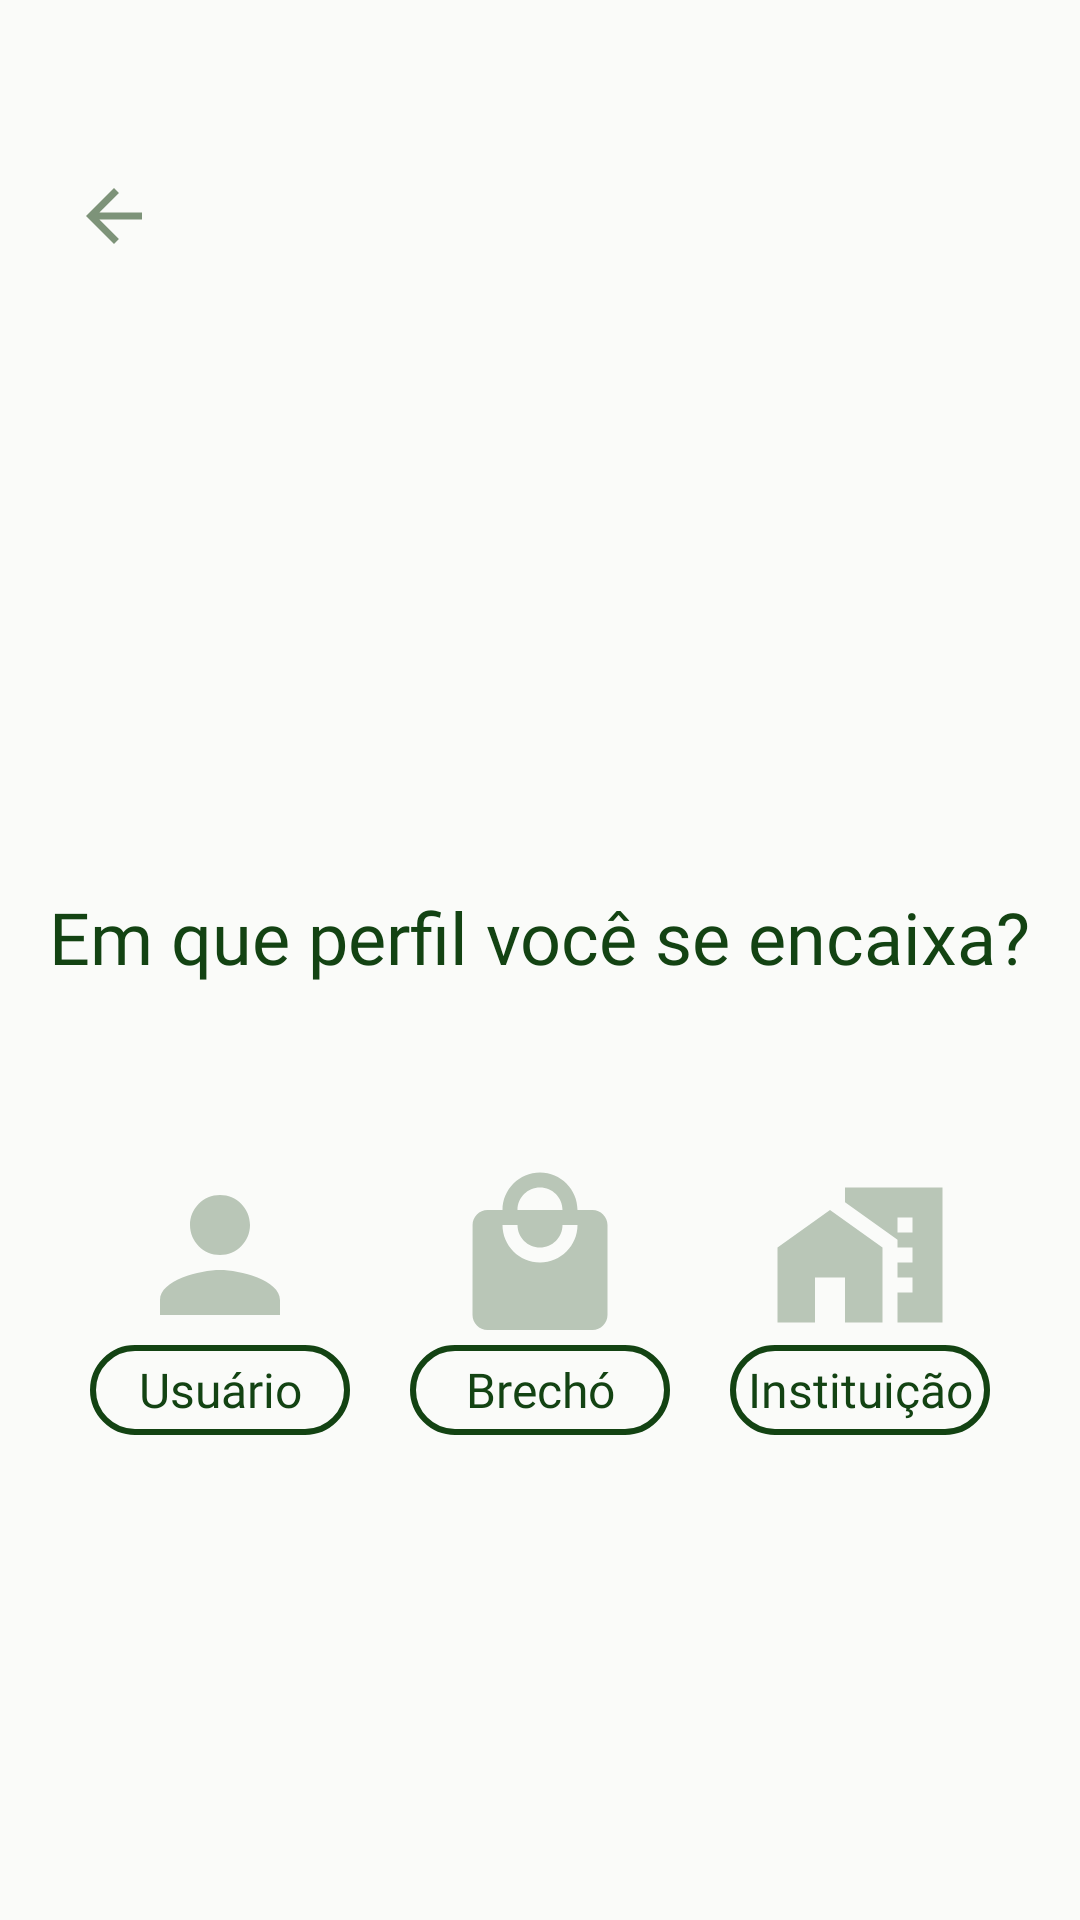

Locate icon controls on the screen. Image size 1080×1920, boxes as bbox=(x1, y1, x2, y2).
home work: bbox=(777, 1187, 943, 1323)
local mall: bbox=(472, 1172, 608, 1330)
personclaro: bbox=(160, 1195, 280, 1315)
